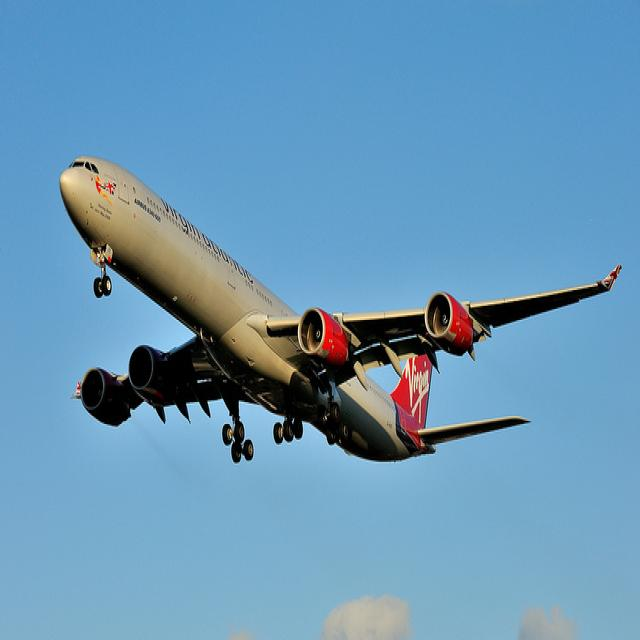airplane: (58, 153, 623, 466)
